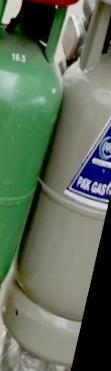cylinder: (1, 1, 111, 371)
